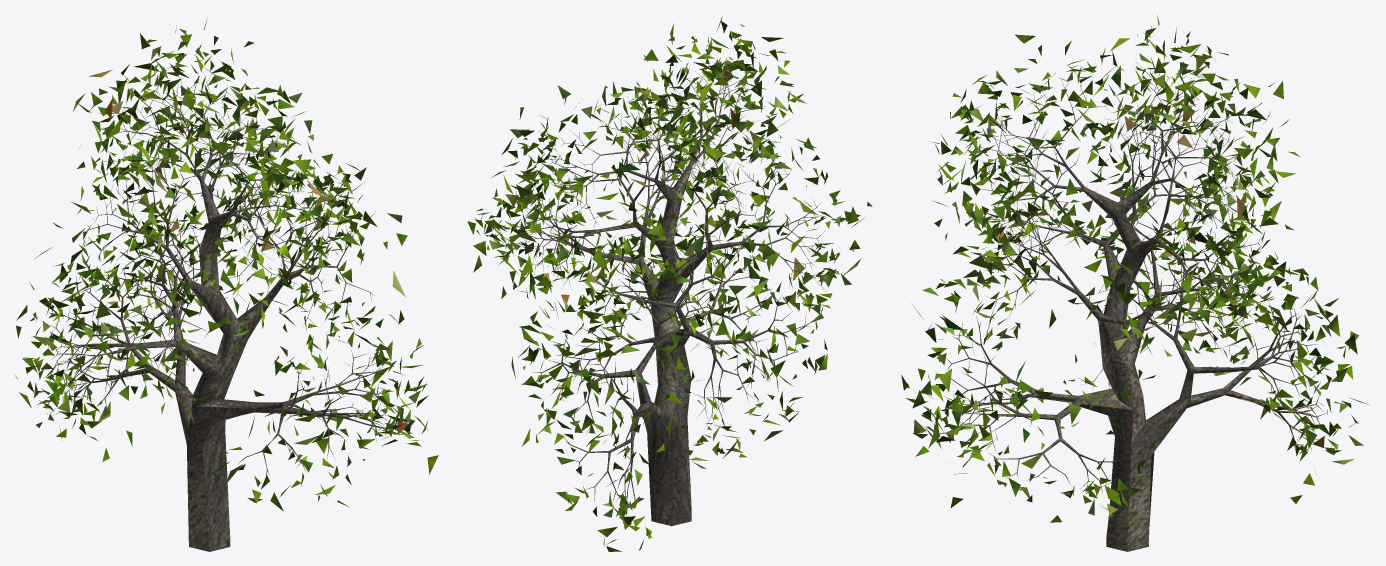
Rendered from Whisper.fbx.
3 renders of one model, left to right at view 1: azimuth 30°, elevation 25°; view 2: azimuth 150°, elevation 25°; view 3: azimuth 270°, elevation 25°, orthographic. The views are drawn at different scales.
Bounding box in the file's own units: 2240 × 2398 × 2866.
Materials: 1 (1 with a texture image).
